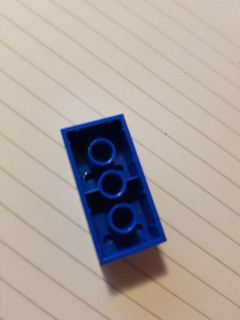2x4 blue: (60, 112, 170, 268)
